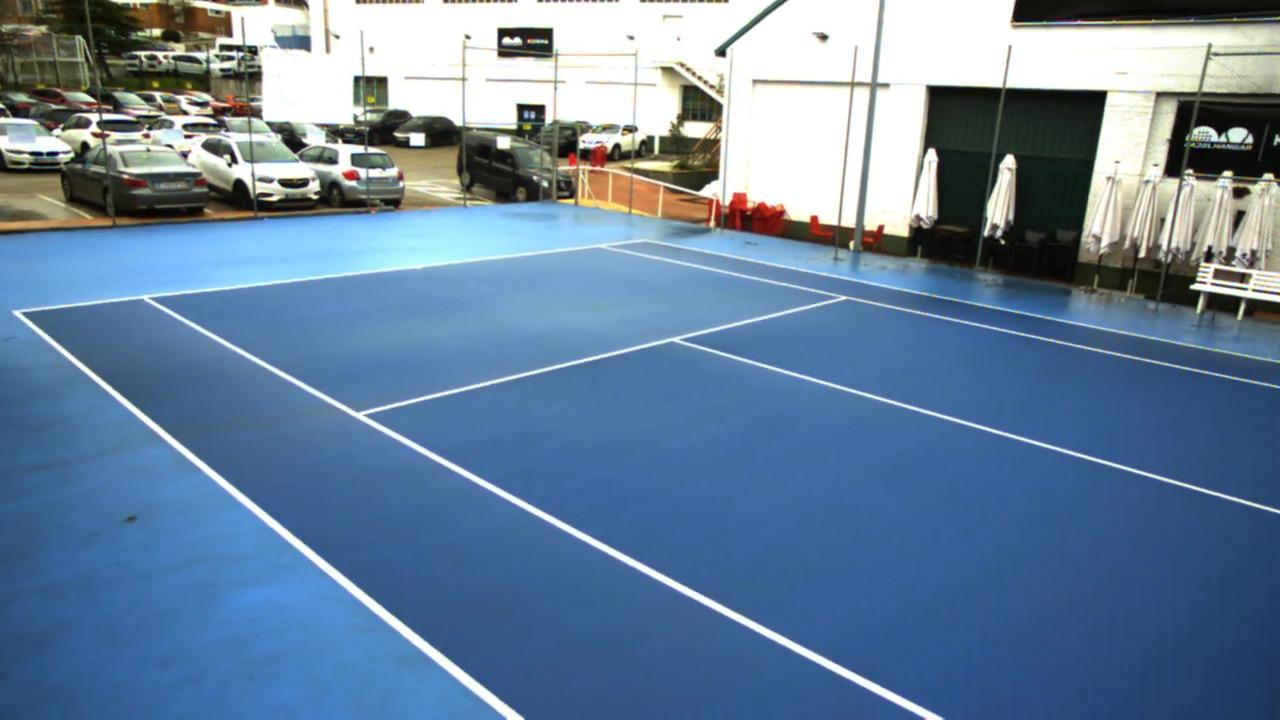cancha_tenis: (144, 243, 1280, 720)
point_f1: (134, 282, 163, 312)
point_f2: (592, 236, 617, 258)
point_fc1: (413, 260, 427, 276)
point_i1: (342, 402, 378, 428)
point_i2: (825, 286, 861, 307)
point_ic1: (661, 326, 690, 352)
